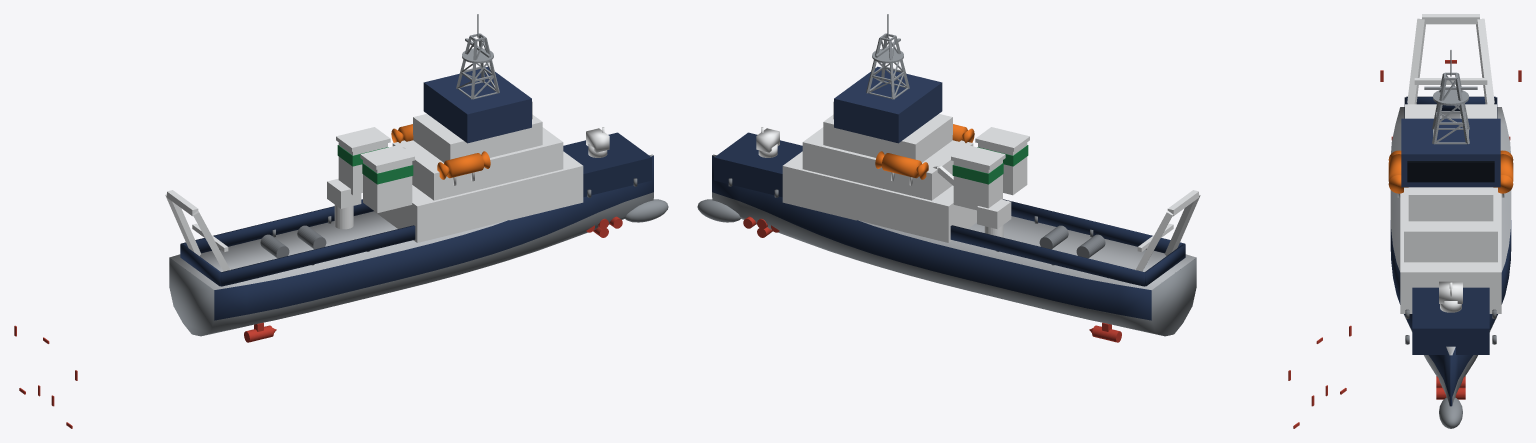
File: advantage-osv-hero.glb
3 renders of one model, left to right at view 1: azimuth 30°, elevation 25°; view 2: azimuth 150°, elevation 25°; view 3: azimuth 270°, elevation 25°, orthographic. The views are drawn at different scales.
Parts seen in each view (by area): view 1: GEO-adv-hull, GEO-adv-house-t1, GEO-adv-bulwarks, GEO-adv-bridge, GEO-adv-house-t2, GEO-adv-forecastle, GEO-adv-house-t3, GEO-adv-funnel-s, GEO-adv-mast, GEO-adv-aframe, GEO-adv-crane, GEO-adv-lifeboat-s (+6 smaller); view 2: GEO-adv-hull, GEO-adv-house-t1, GEO-adv-bulwarks, GEO-adv-bridge, GEO-adv-house-t2, GEO-adv-forecastle, GEO-adv-house-t3, GEO-adv-mast, GEO-adv-aframe, GEO-adv-funnel-p, GEO-adv-crane, GEO-adv-funnel-s (+6 smaller); view 3: GEO-adv-bridge, GEO-adv-forecastle, GEO-adv-hull, GEO-adv-house-t2, GEO-adv-house-t1, GEO-adv-house-t3, GEO-adv-aframe, GEO-adv-bridge-windows, GEO-adv-mast, GEO-adv-sensor, GEO-adv-bulbous-bow, GEO-adv-lifeboat-s (+6 smaller).
Part boxes in pixels (x1,y1,x2,y2): GEO-adv-hull: [169, 154, 653, 336]; GEO-adv-house-t1: [374, 151, 583, 242]; GEO-adv-bulwarks: [180, 199, 415, 286]; GEO-adv-bridge: [423, 67, 531, 143]; GEO-adv-house-t2: [392, 127, 563, 200]; GEO-adv-forecastle: [563, 132, 651, 197]; GEO-adv-house-t3: [413, 114, 542, 162]; GEO-adv-funnel-s: [363, 160, 412, 212]; GEO-adv-mast: [456, 14, 499, 99]; GEO-adv-aframe: [165, 190, 230, 271]; GEO-adv-crane: [327, 145, 405, 229]; GEO-adv-lifeboat-s: [437, 151, 490, 179]; GEO-adv-hull: [712, 154, 1196, 336]; GEO-adv-house-t1: [782, 151, 976, 242]; GEO-adv-bulwarks: [950, 199, 1185, 286]; GEO-adv-bridge: [834, 66, 942, 143]; GEO-adv-house-t2: [802, 127, 973, 200]; GEO-adv-forecastle: [714, 132, 802, 197]; GEO-adv-house-t3: [823, 114, 952, 162]; GEO-adv-mast: [866, 14, 909, 99]; GEO-adv-aframe: [1135, 190, 1200, 271]; GEO-adv-funnel-p: [953, 160, 1002, 210]; GEO-adv-crane: [933, 166, 1011, 237]; GEO-adv-funnel-s: [978, 142, 1027, 195]; GEO-adv-bridge: [1401, 118, 1500, 187]; GEO-adv-forecastle: [1412, 287, 1489, 354]; GEO-adv-hull: [1390, 107, 1511, 406]; GEO-adv-house-t2: [1404, 187, 1497, 262]; GEO-adv-house-t1: [1400, 192, 1501, 313]; GEO-adv-house-t3: [1408, 187, 1493, 221]; GEO-adv-aframe: [1407, 14, 1494, 104]; GEO-adv-bridge-windows: [1407, 161, 1494, 182]; GEO-adv-mast: [1424, 50, 1477, 144]; GEO-adv-sensor: [1439, 281, 1462, 312]; GEO-adv-bulbous-bow: [1439, 397, 1462, 428]; GEO-adv-lifeboat-s: [1388, 150, 1408, 193].
Size of the model in its own units: 67.46 by 30.04 by 11.68.
